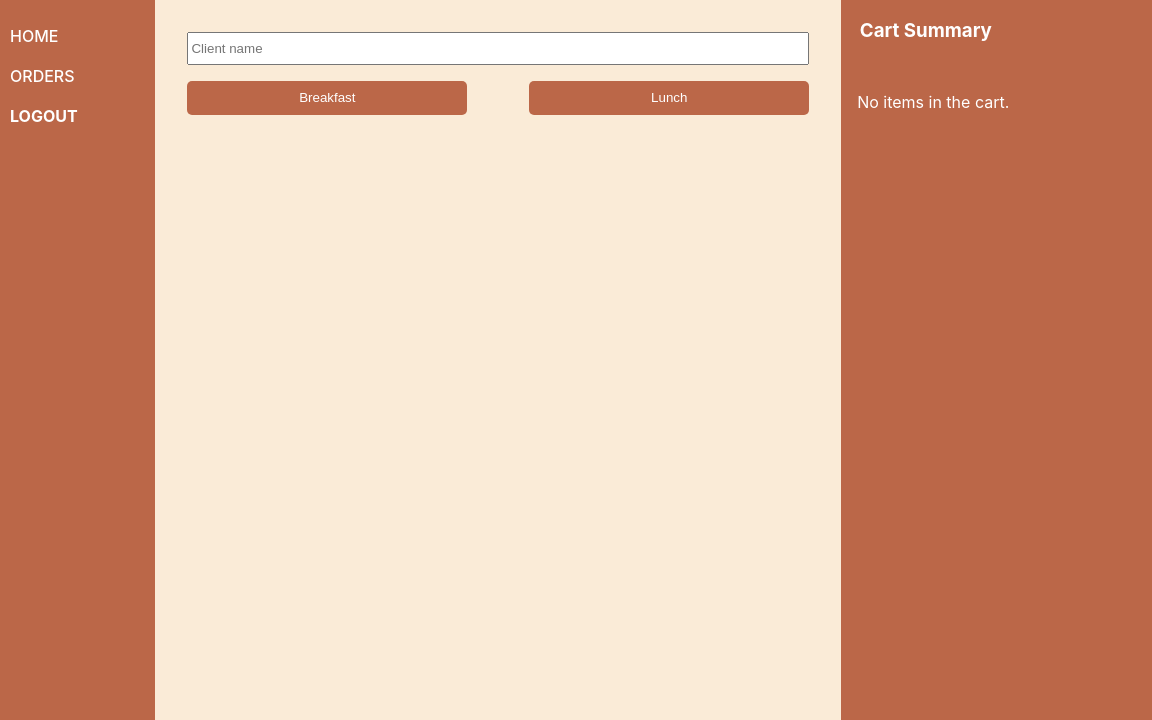
Test: Waiter component › render lunch products
What coordinates should you click on to do the following:
click the button "Lunch"
I would click on:
 (669, 98)
Its box is top-left (529, 81), bottom-right (809, 115).
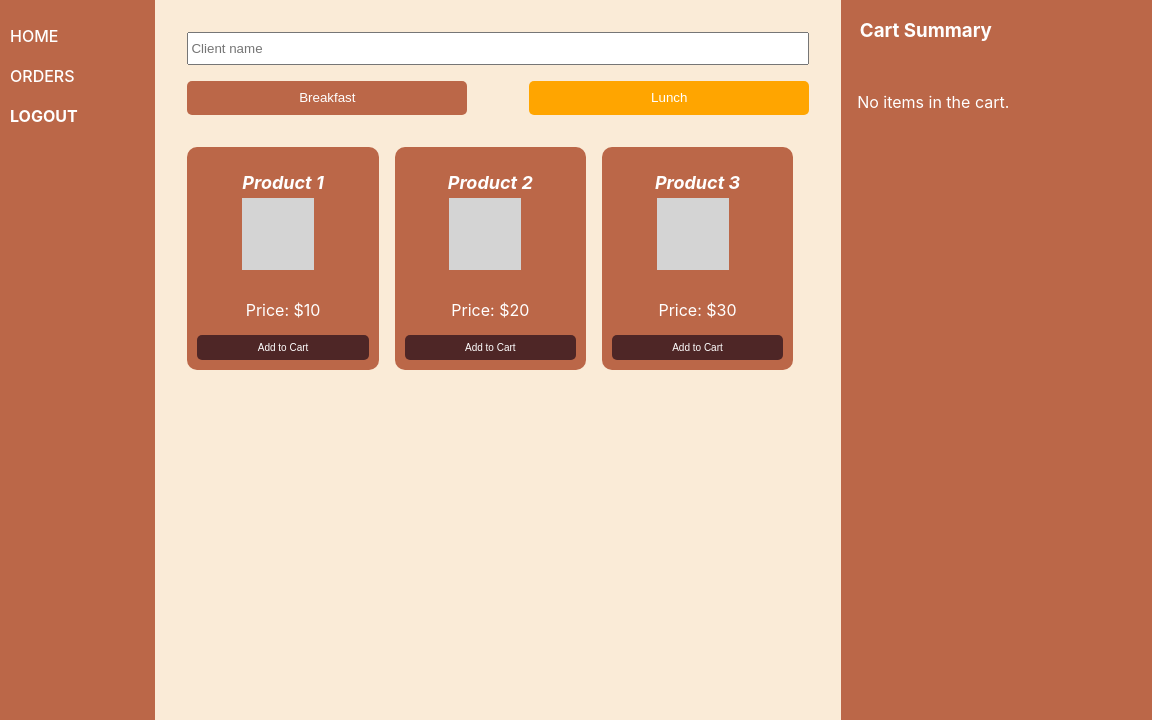
Check: the text "Product 1" is shown, box top-left (242, 172), bottom-right (324, 193)
Check: the text "Product 2" is shown, box top-left (448, 172), bottom-right (533, 193)
Check: the text "Product 3" is shown, box top-left (655, 172), bottom-right (740, 193)
